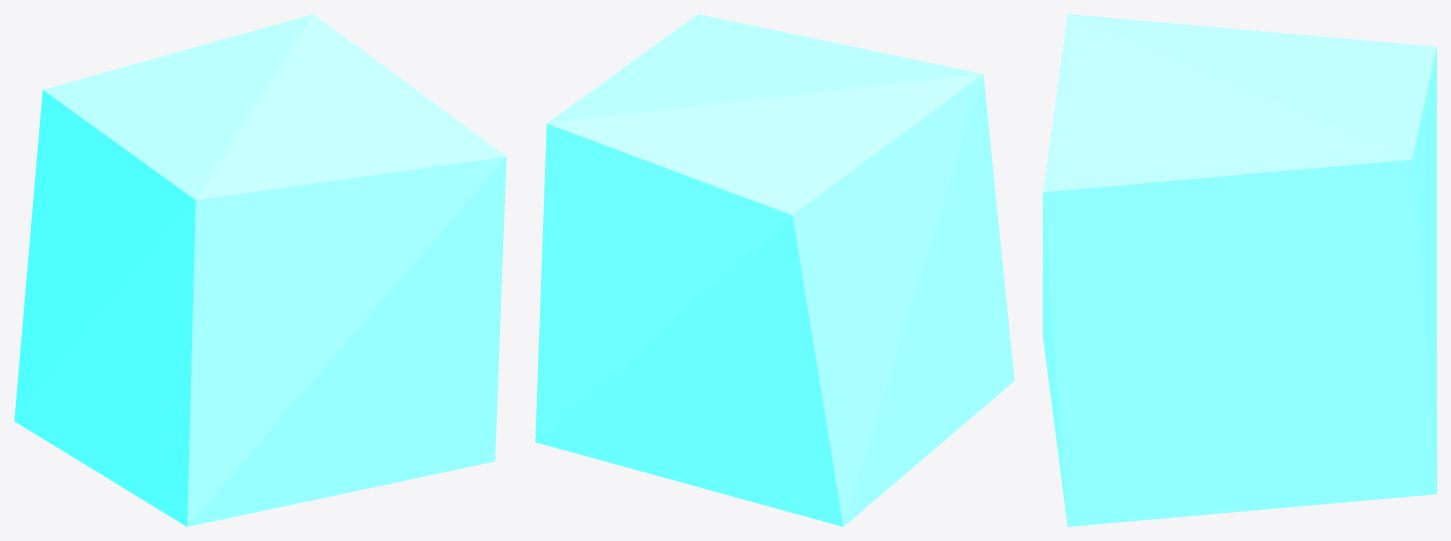
File: Mesh_Voxel_05.glb
3 views of the same model, side by side, from view 1: azimuth 30°, elevation 25°; view 2: azimuth 150°, elevation 25°; view 3: azimuth 270°, elevation 25° (orthographic). The views are drawn at different scales.
Parts seen in each view (by area): view 1: Mesh_Voxel_05; view 2: Mesh_Voxel_05; view 3: Mesh_Voxel_05.
Part boxes in pixels (box(x1,y1,x2,y2)): Mesh_Voxel_05: box(14, 14, 506, 526); Mesh_Voxel_05: box(535, 14, 1014, 526); Mesh_Voxel_05: box(1043, 14, 1436, 526).
Size of the model in its own units: 0.08 by 0.08 by 0.08.
